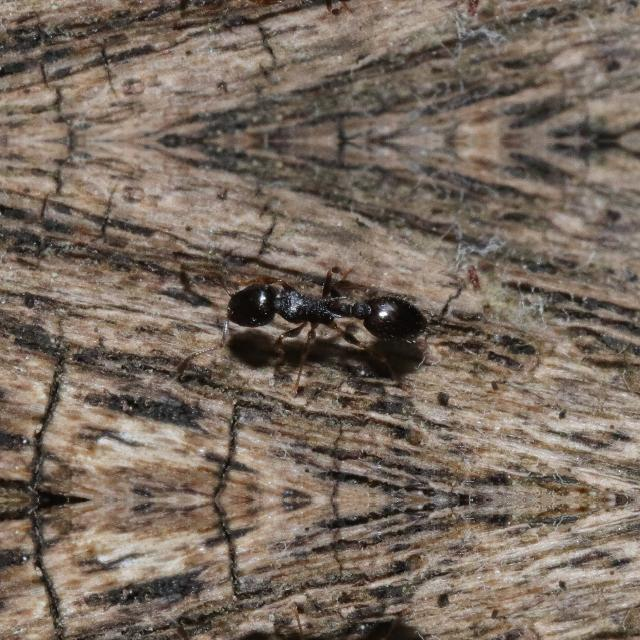Temnothorax: (188, 236, 446, 384), (187, 0, 444, 42)
